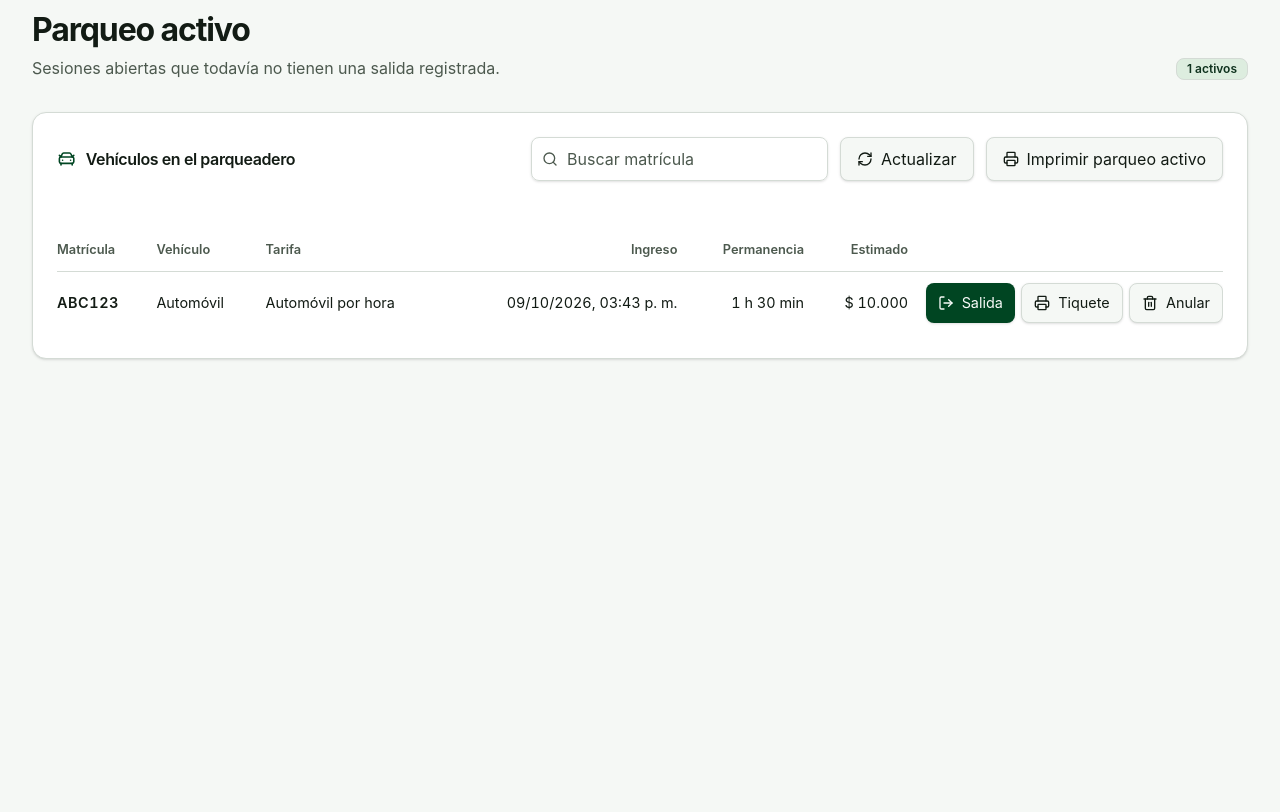
Test: Parqueo activo › orienta al operador cuando la búsqueda no encuentra la matrícula
Check: the table is shown, box [57,229,1223,334]
In the field with placeholder "Buscar matrícula": [680, 159] box [531,137,828,181], type "XYZ"
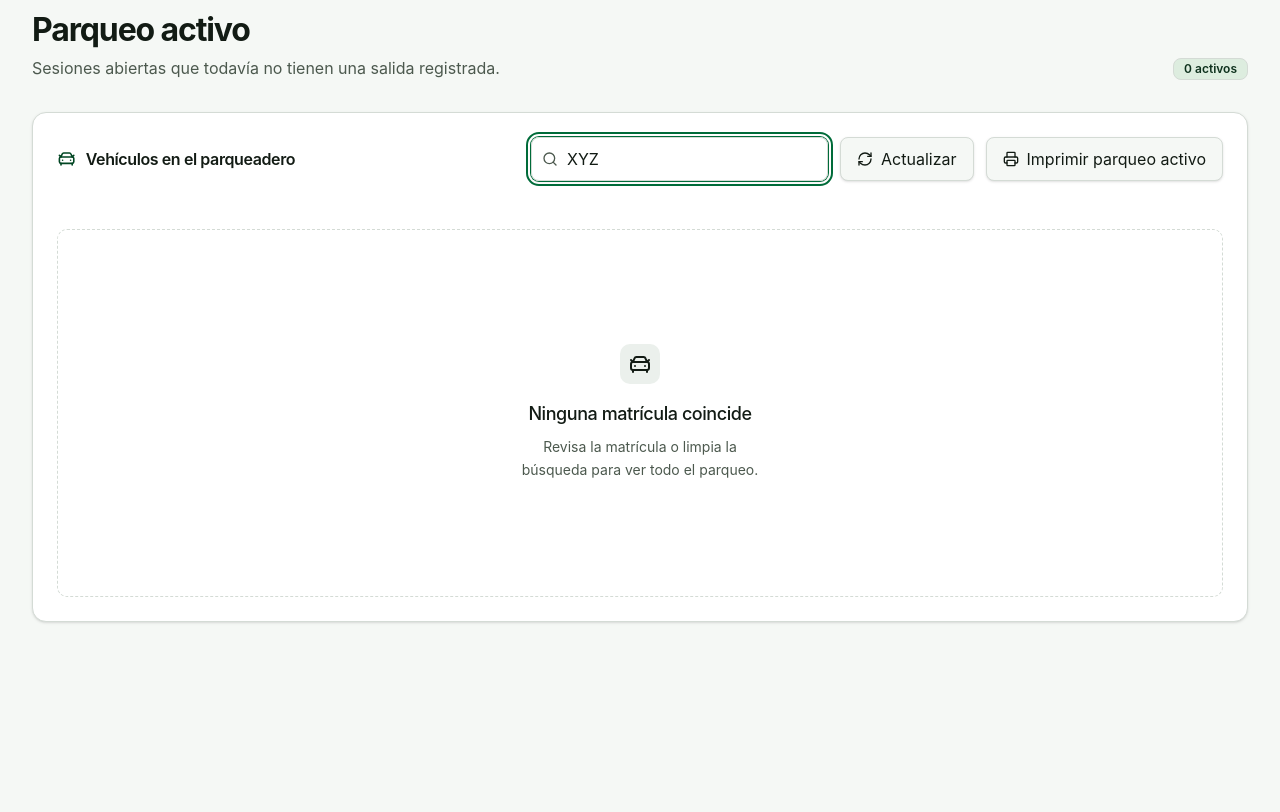
Check: the heading "Ninguna matrícula coincide" is shown, box [528,400,752,428]
